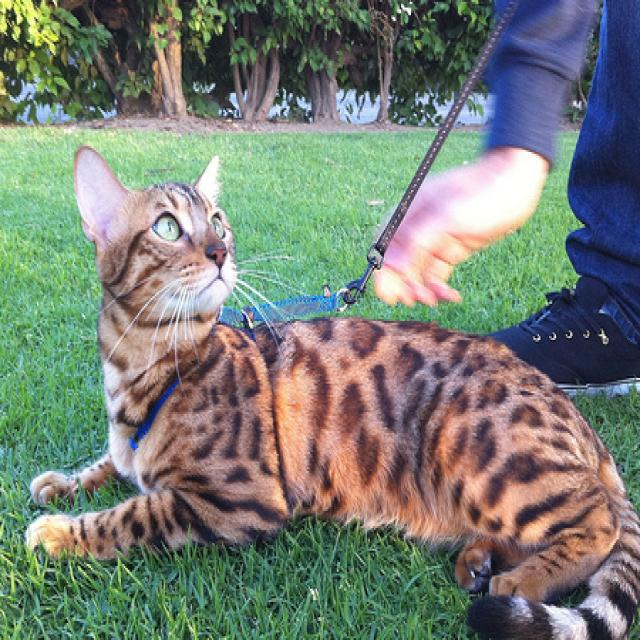Bengal: (24, 133, 640, 640)
